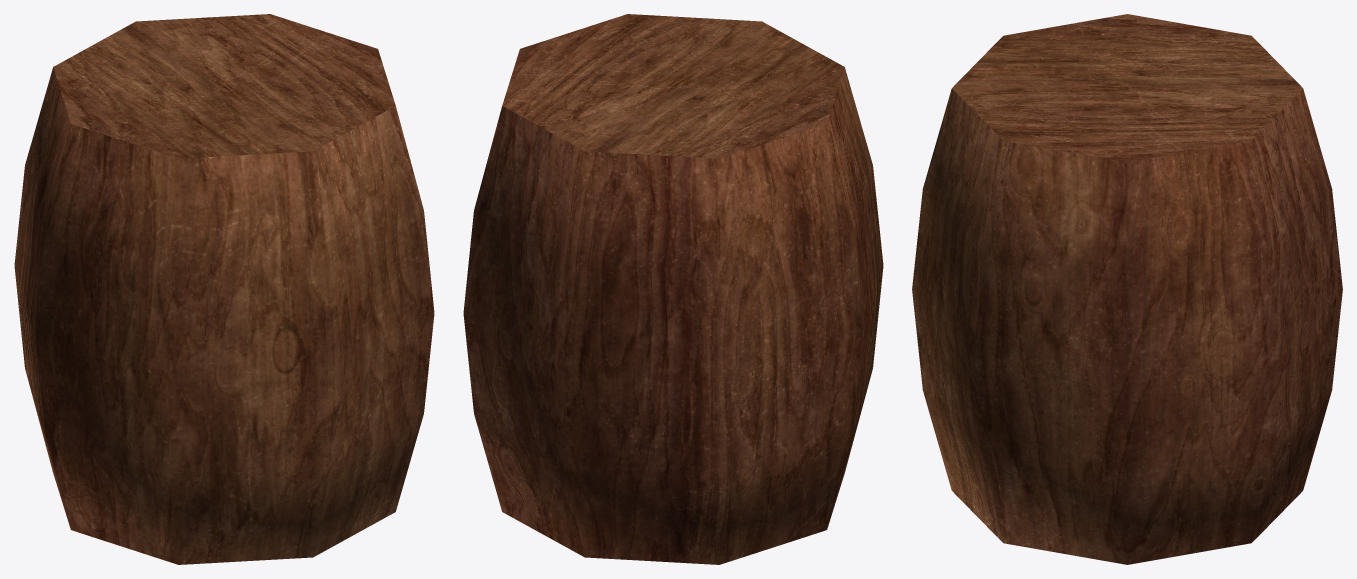
Rendered from barrel_lowpoly_collider.fbx.
3 renders of one model, left to right at view 1: azimuth 30°, elevation 25°; view 2: azimuth 150°, elevation 25°; view 3: azimuth 270°, elevation 25°, orthographic.
Parts seen in each view (by area): view 1: barrel.lowpoly.collider; view 2: barrel.lowpoly.collider; view 3: barrel.lowpoly.collider.
Part boxes in pixels (box(x1,y1,x2,y2)): barrel.lowpoly.collider: box(14, 14, 434, 564); barrel.lowpoly.collider: box(463, 14, 883, 564); barrel.lowpoly.collider: box(912, 14, 1342, 564).
Bounding box in the file's own units: 65.04 × 67.04 × 65.04.
